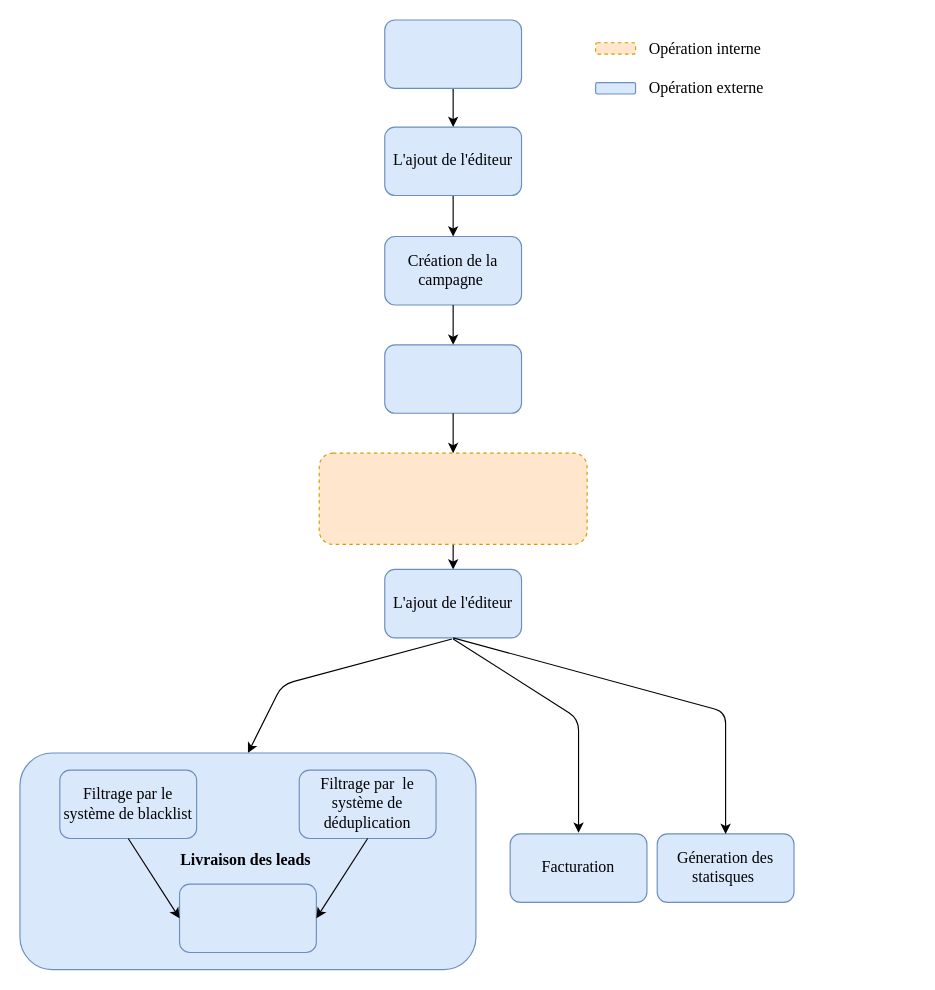
This 935x990 diagram has some shape labels left out. The centre of each missing label's shape, as x and y in pixels:
Création de la Survey (page de publicité): the point at 453,378
L'ajout de l'annonceur: the point at 453,53
La diffusion de campagnes par les éditeurs: the point at 452,498
livraison au client: the point at 247,917
